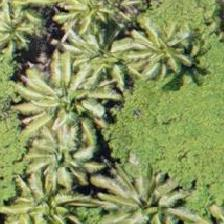coconut_tree: (19, 53, 109, 143), (8, 114, 98, 204), (0, 159, 77, 223)
